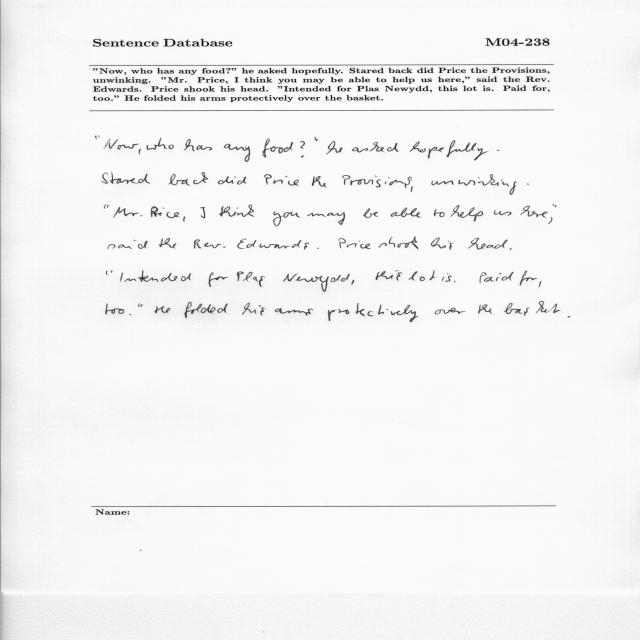word: (328, 303, 418, 322), (409, 141, 488, 161), (458, 174, 517, 195), (343, 175, 414, 192), (283, 274, 350, 292), (504, 301, 560, 316), (238, 239, 310, 250), (120, 271, 191, 282), (184, 302, 228, 318), (102, 172, 150, 184), (263, 139, 293, 158), (451, 205, 484, 222), (169, 172, 208, 186), (307, 212, 345, 225), (379, 237, 419, 249), (468, 238, 508, 250), (352, 142, 399, 152), (224, 144, 250, 162), (220, 204, 255, 217), (264, 174, 299, 186), (273, 211, 301, 226), (237, 272, 265, 287), (104, 139, 139, 150), (480, 272, 514, 283), (338, 238, 371, 249), (147, 137, 174, 150), (108, 240, 147, 249), (151, 206, 180, 218), (184, 139, 212, 151), (521, 206, 548, 218), (114, 207, 143, 218), (391, 208, 421, 218), (431, 237, 453, 250), (376, 270, 402, 281), (209, 272, 228, 287), (408, 271, 436, 281), (194, 240, 225, 249), (242, 303, 265, 315), (520, 271, 538, 286), (275, 308, 313, 315), (326, 141, 343, 155), (218, 176, 246, 184), (435, 308, 466, 315), (106, 304, 125, 315), (312, 176, 327, 188), (159, 238, 176, 248), (363, 208, 378, 218), (478, 304, 492, 314), (155, 306, 171, 313), (432, 181, 454, 186), (494, 210, 512, 216), (442, 273, 452, 282), (434, 209, 445, 217), (300, 141, 305, 157), (200, 207, 205, 218), (548, 217, 553, 224), (106, 270, 113, 275), (539, 281, 542, 288), (96, 135, 100, 140), (314, 137, 319, 141), (104, 205, 109, 209), (552, 204, 557, 208), (352, 280, 355, 285), (138, 304, 143, 307), (139, 149, 141, 154), (183, 217, 185, 222), (527, 183, 529, 185), (317, 247, 319, 249), (510, 248, 512, 250), (454, 281, 456, 283), (568, 316, 571, 317), (497, 150, 499, 151), (129, 314, 131, 315)
